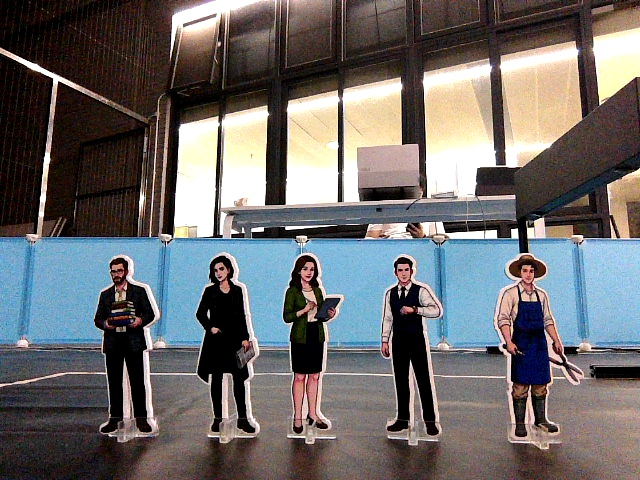community_person: (488, 248, 586, 456), (189, 245, 266, 450), (373, 249, 451, 451), (89, 248, 167, 449), (277, 247, 349, 445)
